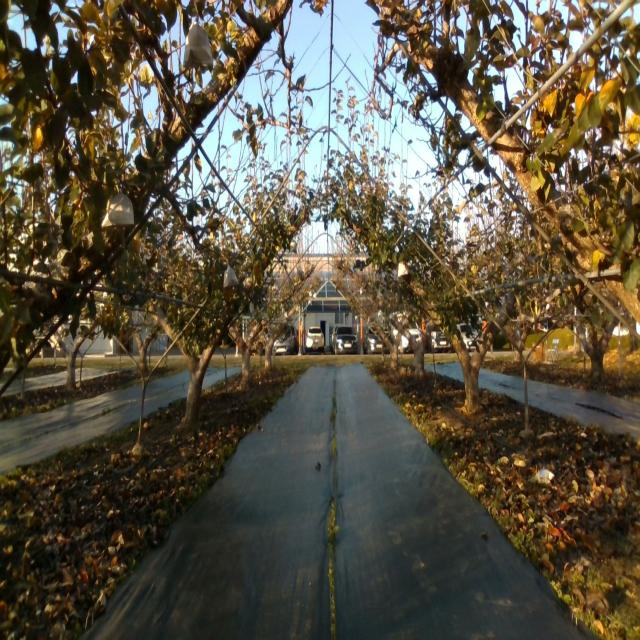pearbags: (184, 21, 214, 70), (102, 192, 135, 227), (223, 266, 238, 288)
